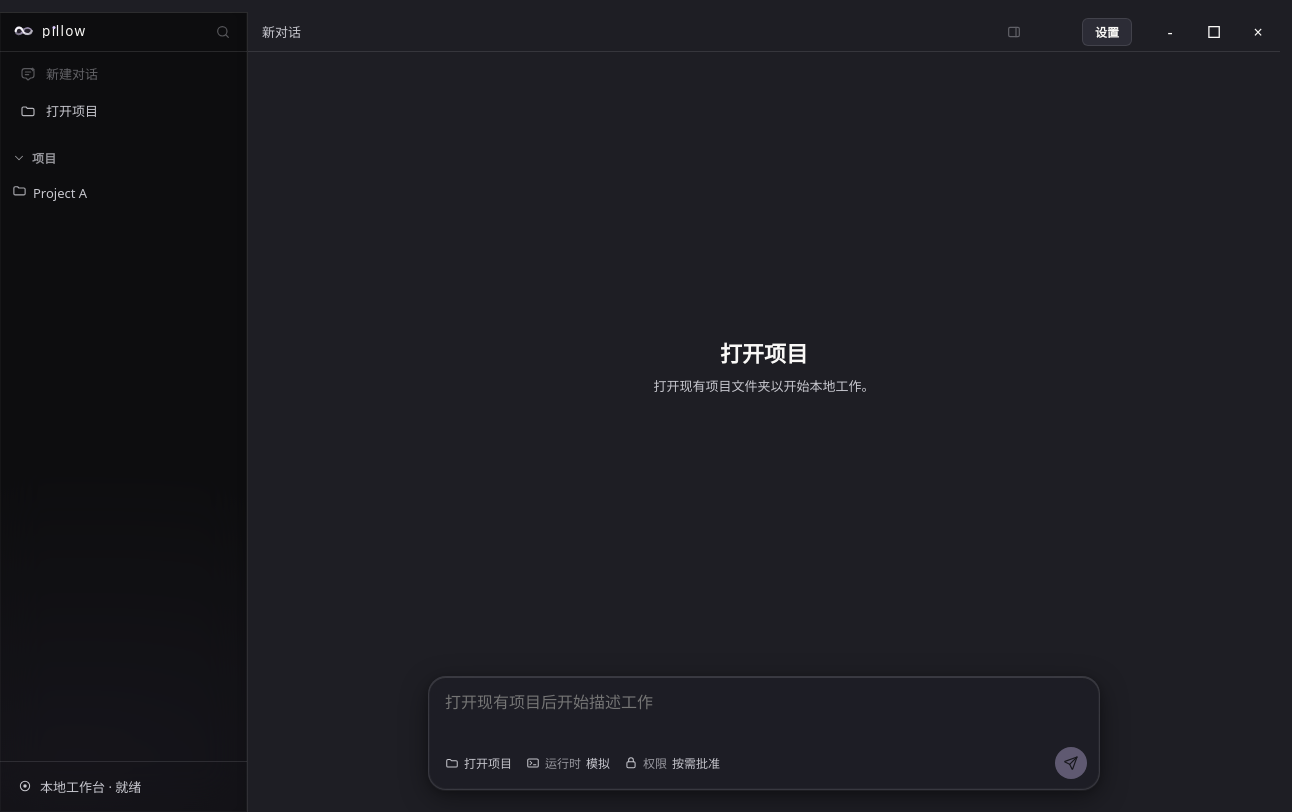
Scenario: conversation workbench UI › renders multiple turns in chronological order
This screenshot has width=1292, height=812.
Click the button "Project A" at (124,192), box [4,176,243,209]
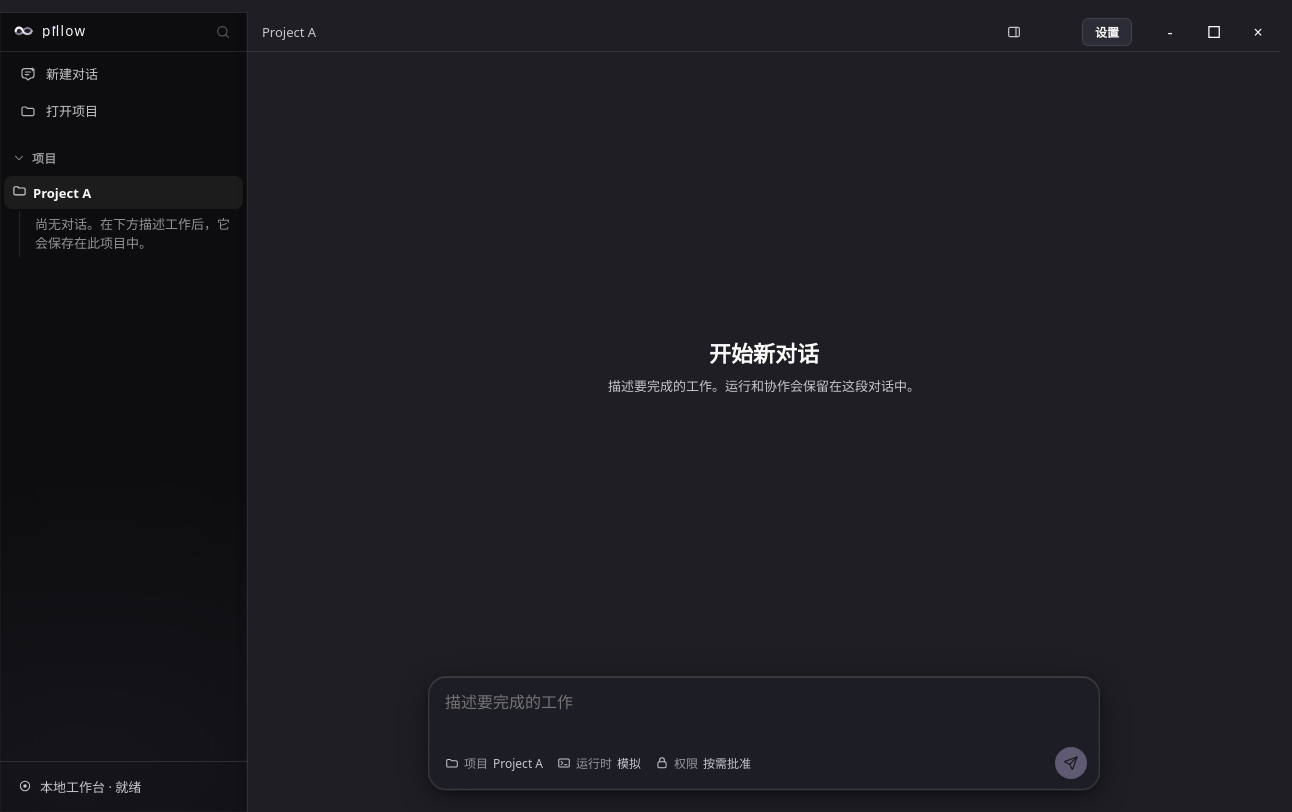
Click the button "新建对话" at (124,74), box [10,56,237,91]
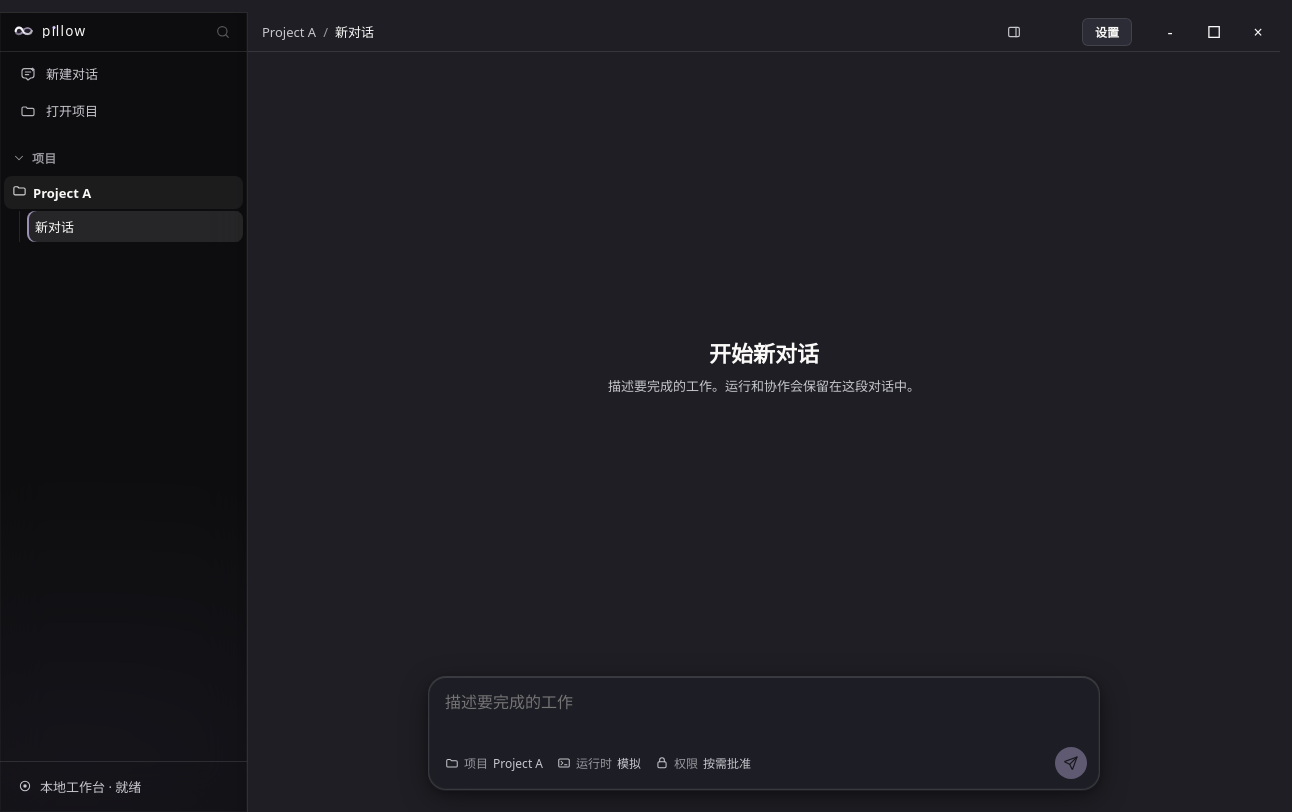
Type "第一轮" into the text box named "工作请求" at (764,713), box [441,687,1087,739]
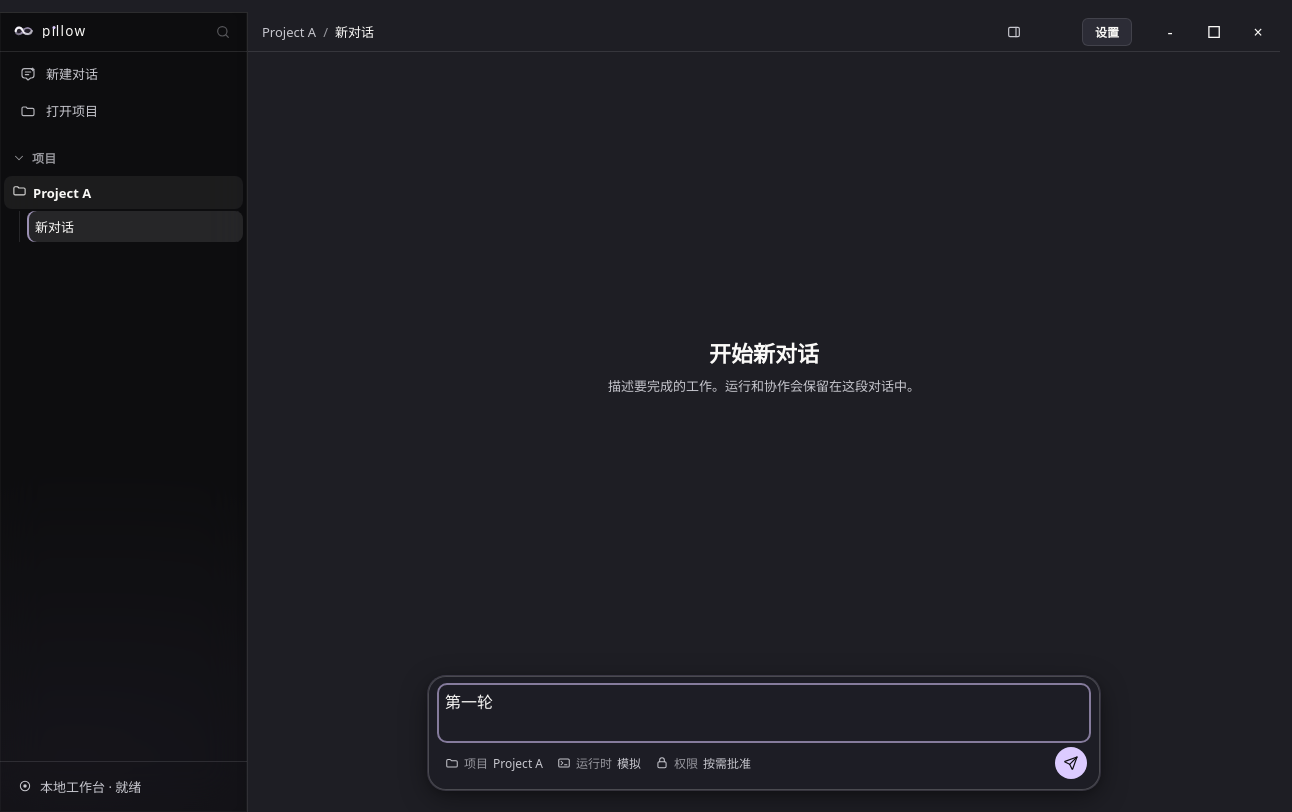
Click the button with test id "composer-send" at (1071,763), box [1055,747,1087,779]
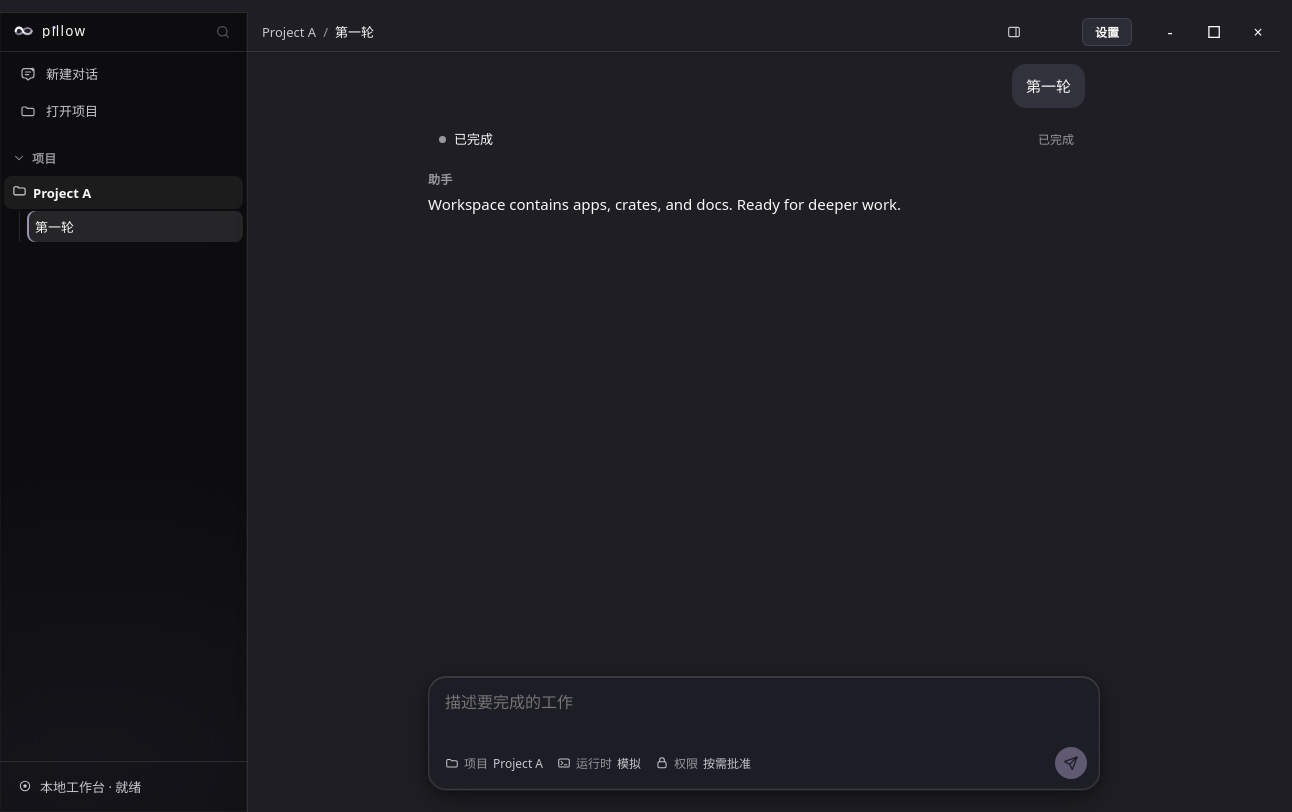
Now the heading with test id "agent-activity-summary" shows "已完成", box [439,130,1074,148]
Type "第二轮" into the text box named "工作请求" at (764,713), box [441,687,1087,739]
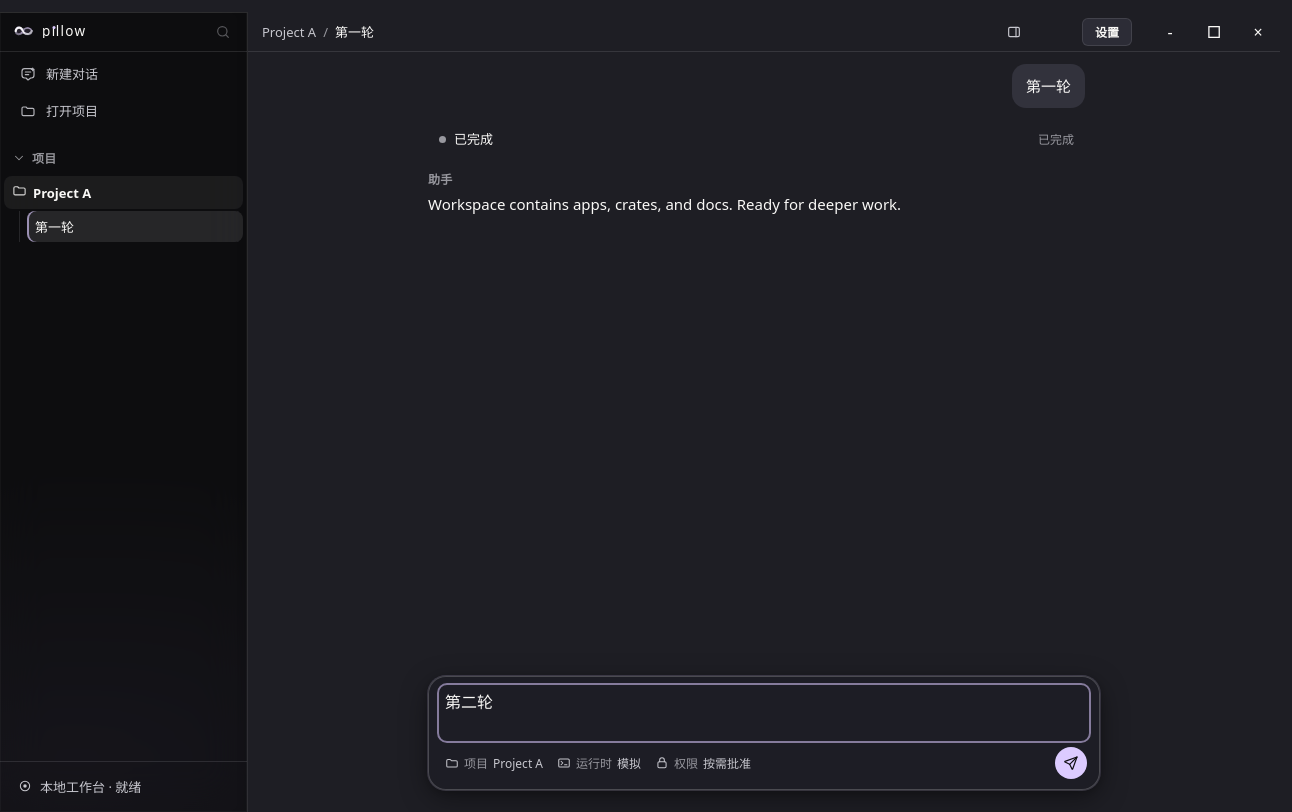
Click the button with test id "composer-send" at (1071,763), box [1055,747,1087,779]
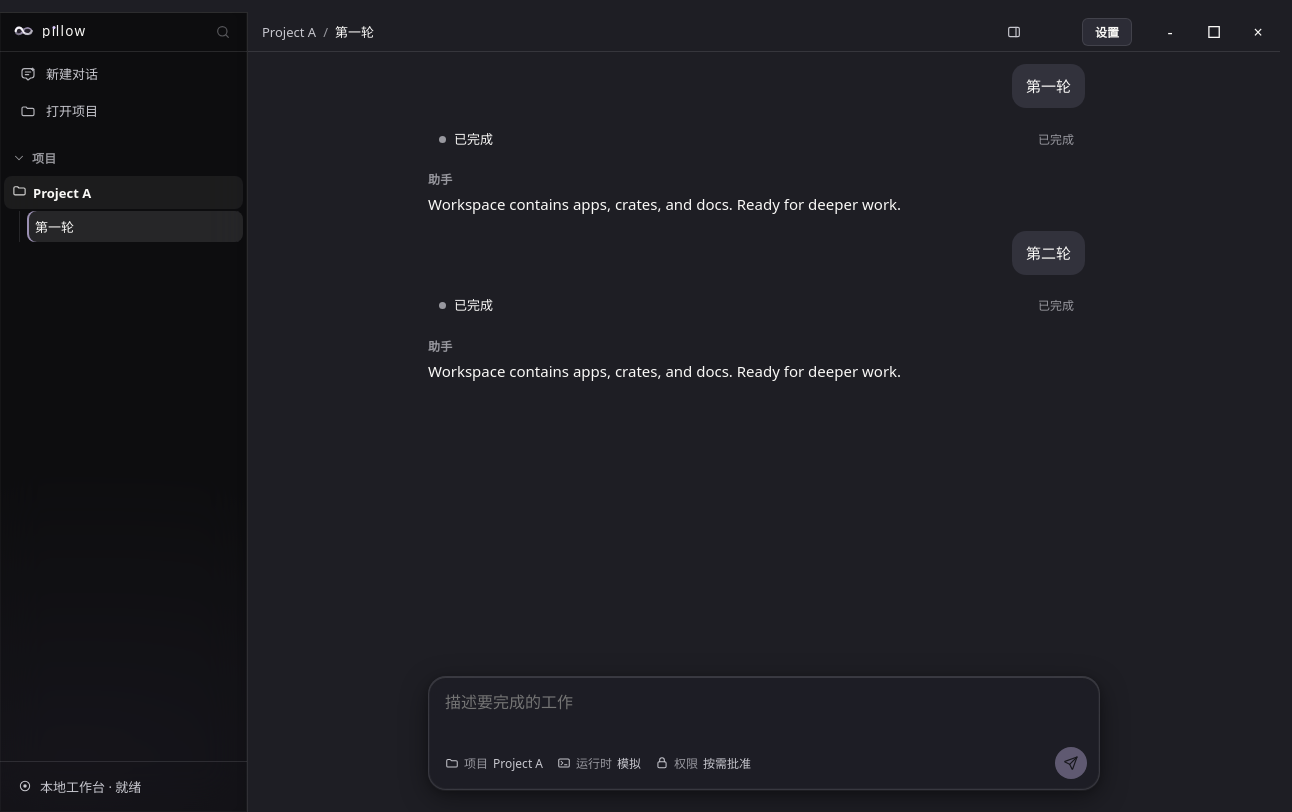
Now the 1st element with test id "timeline-user-message" reads "第一轮", box [1026,76,1071,96]
Now the number of elements with test id "timeline-user-message" is 2, box [1012,64,1085,108]; [1012,231,1085,275]
Now the number of elements with test id "timeline-assistant-message" is 2, box [428,171,901,214]; [428,338,901,381]
